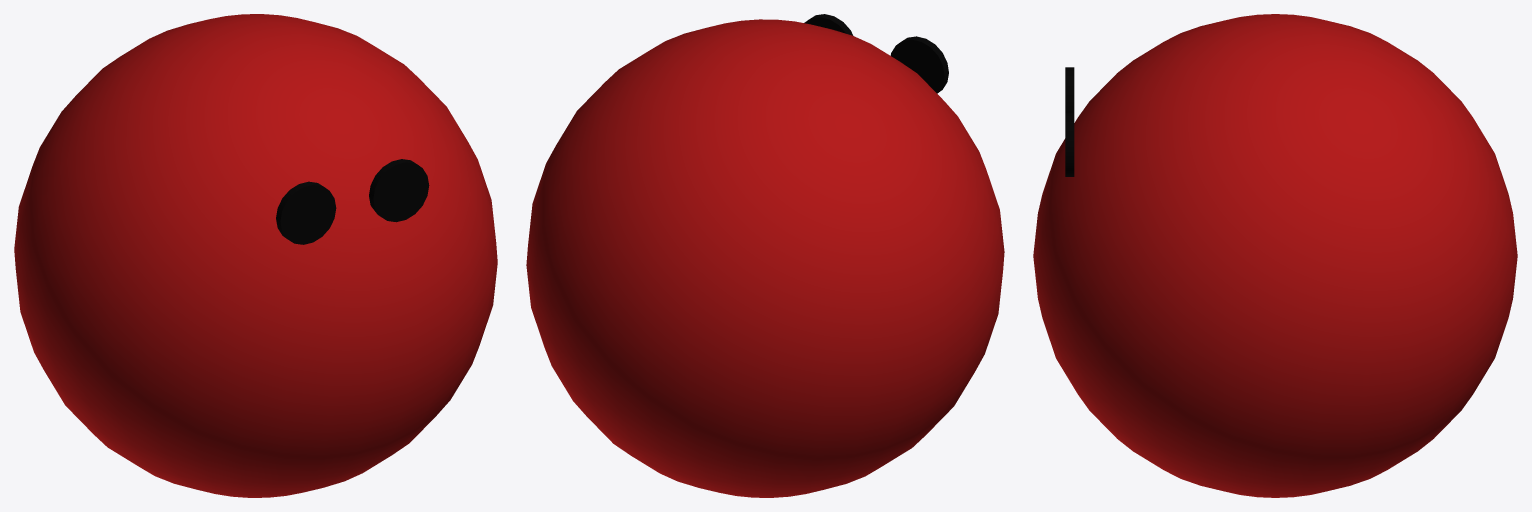
The model's file is animation_Balle.FBX.
The picture shows the model from 3 angles, left to right: view 1: azimuth 30°, elevation 25°; view 2: azimuth 150°, elevation 25°; view 3: azimuth 270°, elevation 25°; orthographic projection.
Parts seen in each view (by area): view 1: Sphere001, Cylinder001, Cylinder002; view 2: Sphere001, Cylinder001; view 3: Sphere001, Cylinder002.
Part boxes in pixels (<box>): Sphere001: <box>14,14,497,497</box>; Cylinder001: <box>276,181,336,244</box>; Cylinder002: <box>369,159,429,222</box>; Sphere001: <box>526,19,1004,497</box>; Cylinder001: <box>890,36,948,93</box>; Sphere001: <box>1033,14,1517,497</box>; Cylinder002: <box>1065,112,1074,176</box>.
Bounding box in the file's own units: 24.72 × 24.72 × 24.72.
